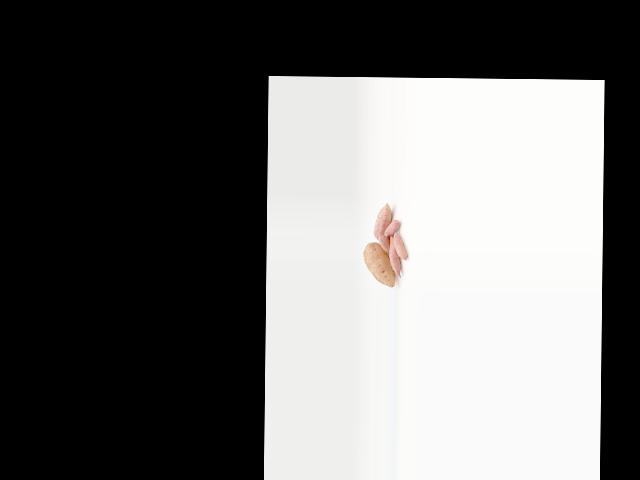sweet_potato: (373, 201, 392, 238)
